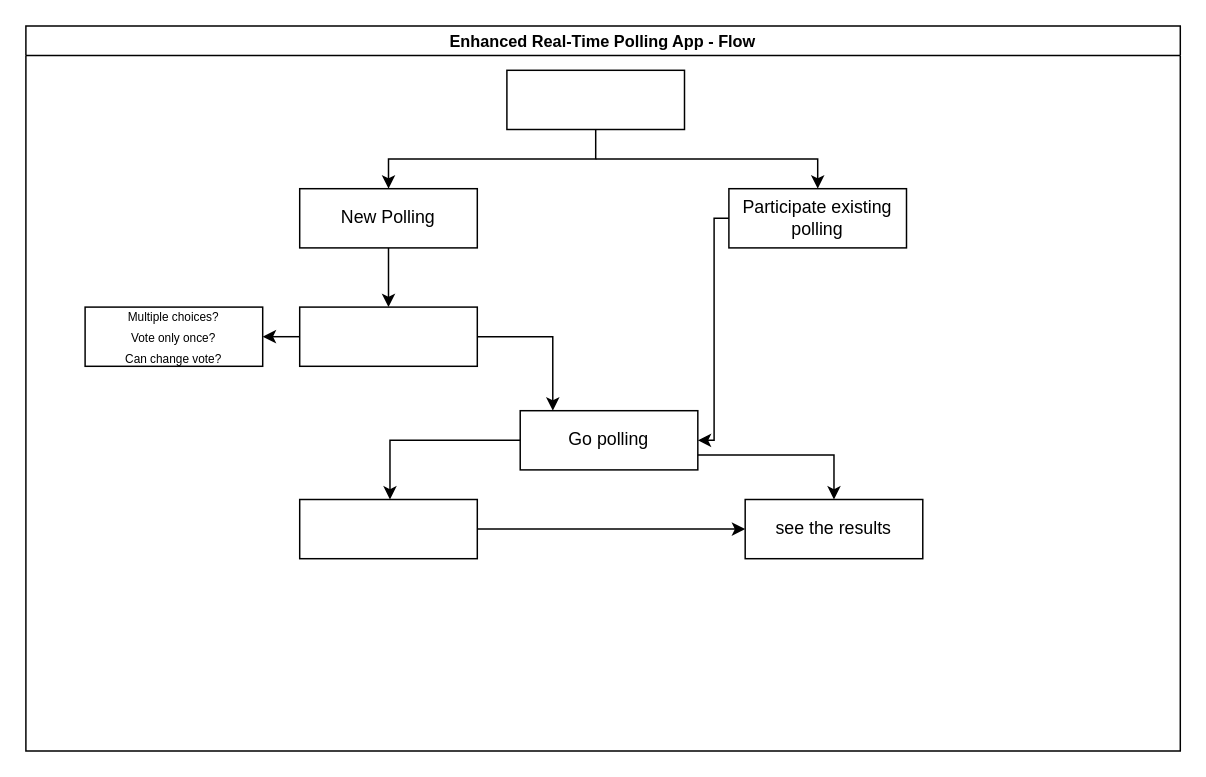
The diagram is 1206 pixels wide and 777 high, and some of its shapes have lost their labels. The centre of each missing label's shape, as x and y in pixels:
"Home" belongs at [594,99].
"Make Questions and Choices" belongs at [387,336].
"Vote" belongs at [387,528].
